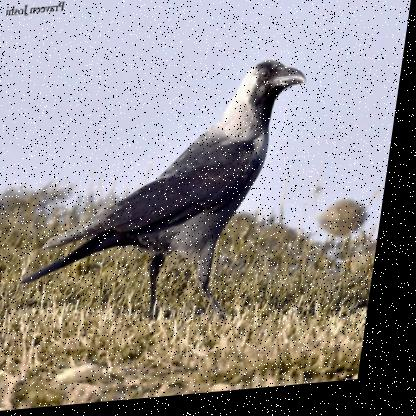Burung: (25, 62, 312, 332)
